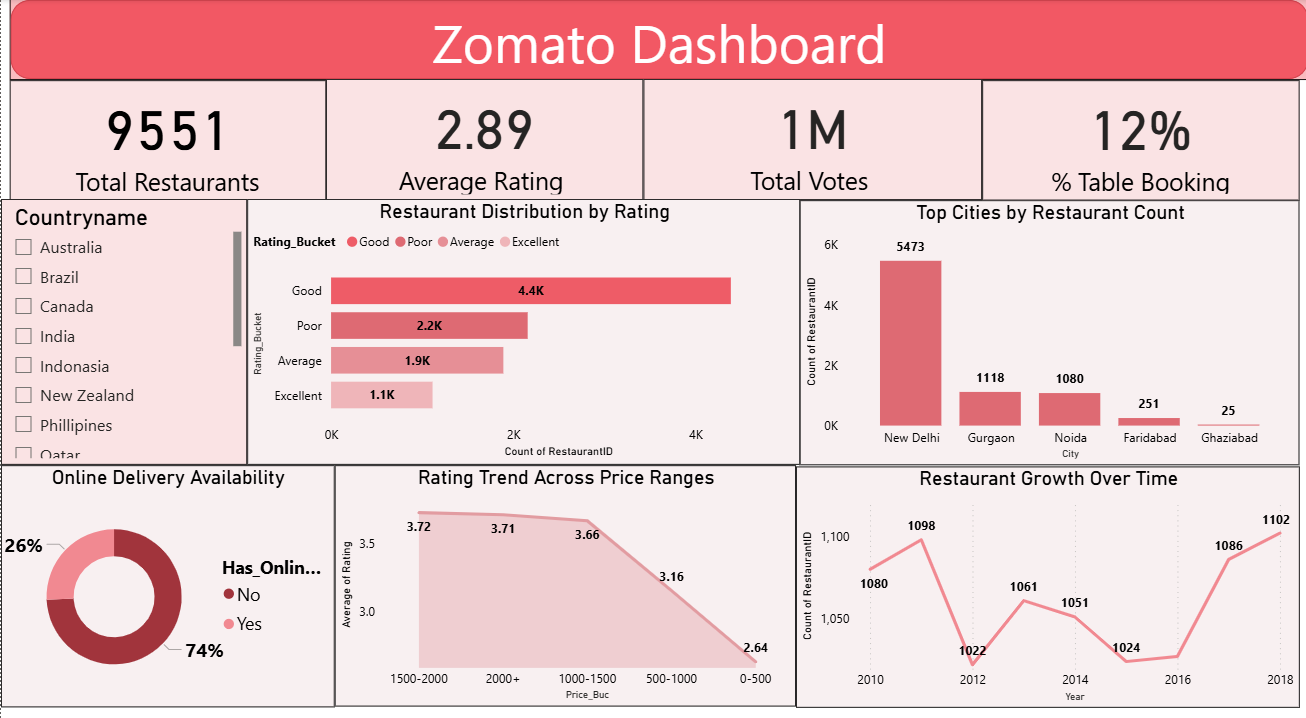

The page's visual inventory and layout, read from the dashboard file:
{"tool":"powerbi","page":{"name":"Dashboard ","canvas":[1280,720],"ordinal":0},"visuals":[{"type":"shape","box":[8.6,0,1271.7,79.5],"z":0},{"type":"card","fields":{"Values":["CountNonNull(Main.RestaurantID)"]},"box":[8.6,79.5,309.4,117.4],"z":1000},{"type":"card","fields":{"Values":["Avg(Main.Rating)"]},"box":[317.9,78.3,310.6,118.6],"z":2000},{"type":"card","fields":{"Values":["Sum(Main.Votes)"]},"box":[628.5,78.3,331.4,118.6],"z":3000},{"type":"barChart","title":"Restaurant Distribution by Rating  ","fields":{"Category":["Main.Rating_Bucket "],"Series":["Main.Rating_Bucket "],"Y":["CountNonNull(Main.RestaurantID)"]},"box":[240.9,196.2,541,259.7],"z":4000},{"type":"donutChart","title":"Online Delivery Availability ","fields":{"Category":["Main.Has_Online_delivery"],"Y":["CountNonNull(Main.RestaurantID)"]},"box":[0,455.9,326.1,236.6],"z":5000},{"type":"lineChart","title":"Restaurant Growth Over Time ","fields":{"Category":["Calendar.Year"],"Y":["CountNonNull(Main.RestaurantID)"]},"box":[777.7,457.3,492.8,236],"z":6000},{"type":"slicer","fields":{"Values":["Country.Countryname"]},"box":[0,196.2,240.9,259.7],"z":7000},{"type":"columnChart","title":"Top Cities by Restaurant Count ","fields":{"Category":["Main.City"],"Y":["CountNonNull(Main.RestaurantID)"]},"box":[781.4,196.9,489.1,259.2],"z":8000},{"type":"areaChart","title":"Rating Trend Across Price Ranges","fields":{"Category":["Main.Price_Buc"],"Y":["Avg(Main.Rating)"]},"box":[326.5,456.1,451.2,236],"z":9000},{"type":"card","fields":{"Values":["Main.% Table Booking"]},"box":[959.9,79.5,310.6,117.4],"z":10000}]}

Visuals, with their boxes in screenshot pixels (x1, y1, x2, y2), scaled from the page's 1280x720 canvas onto the 1306x718 screenshot:
shape: locate(9, 0, 1305, 79)
card - CountNonNull(Main.RestaurantID): locate(9, 79, 324, 196)
card - Avg(Main.Rating): locate(324, 78, 641, 196)
card - Sum(Main.Votes): locate(641, 78, 979, 196)
"Restaurant Distribution by Rating  " barChart: locate(246, 196, 798, 455)
"Online Delivery Availability " donutChart: locate(0, 455, 333, 691)
"Restaurant Growth Over Time " lineChart: locate(793, 456, 1296, 691)
slicer - Country.Countryname: locate(0, 196, 246, 455)
"Top Cities by Restaurant Count " columnChart: locate(797, 196, 1296, 455)
"Rating Trend Across Price Ranges" areaChart: locate(333, 455, 793, 690)
card - Main.% Table Booking: locate(979, 79, 1296, 196)
